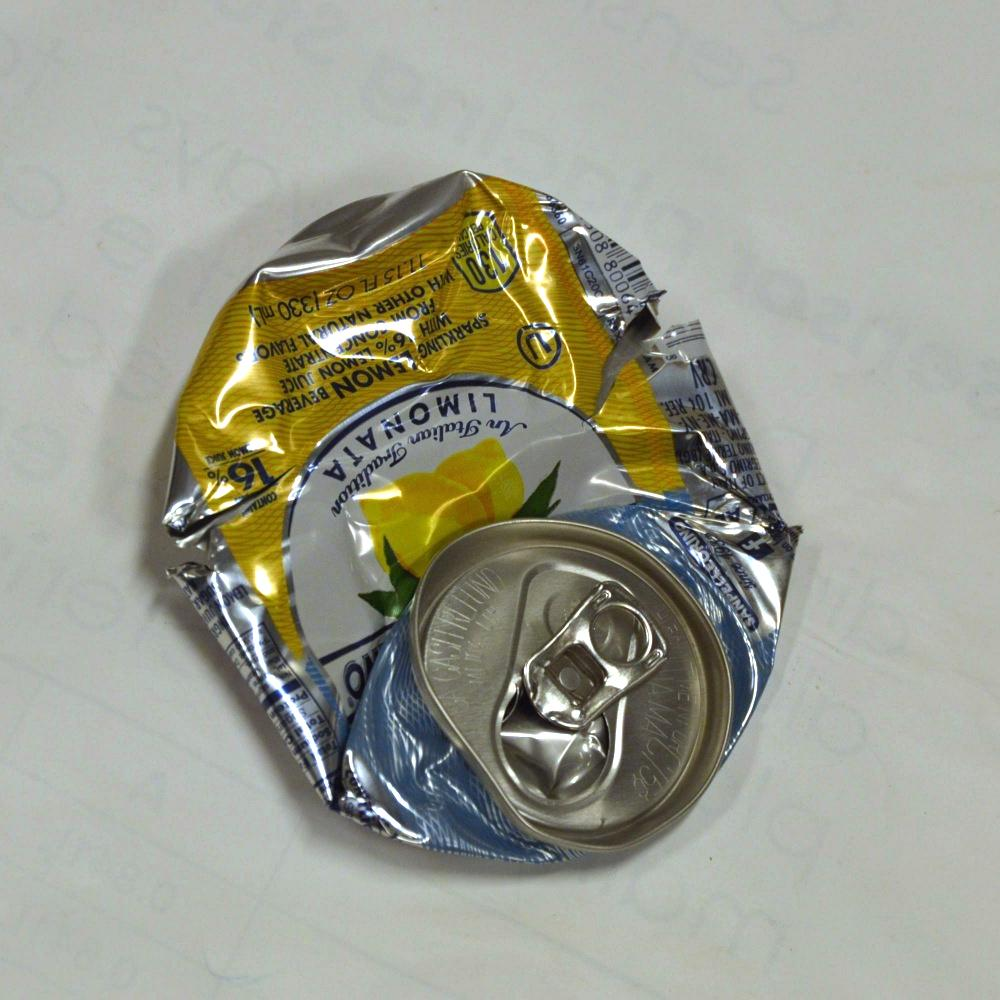Metal: (146, 145, 821, 945)
